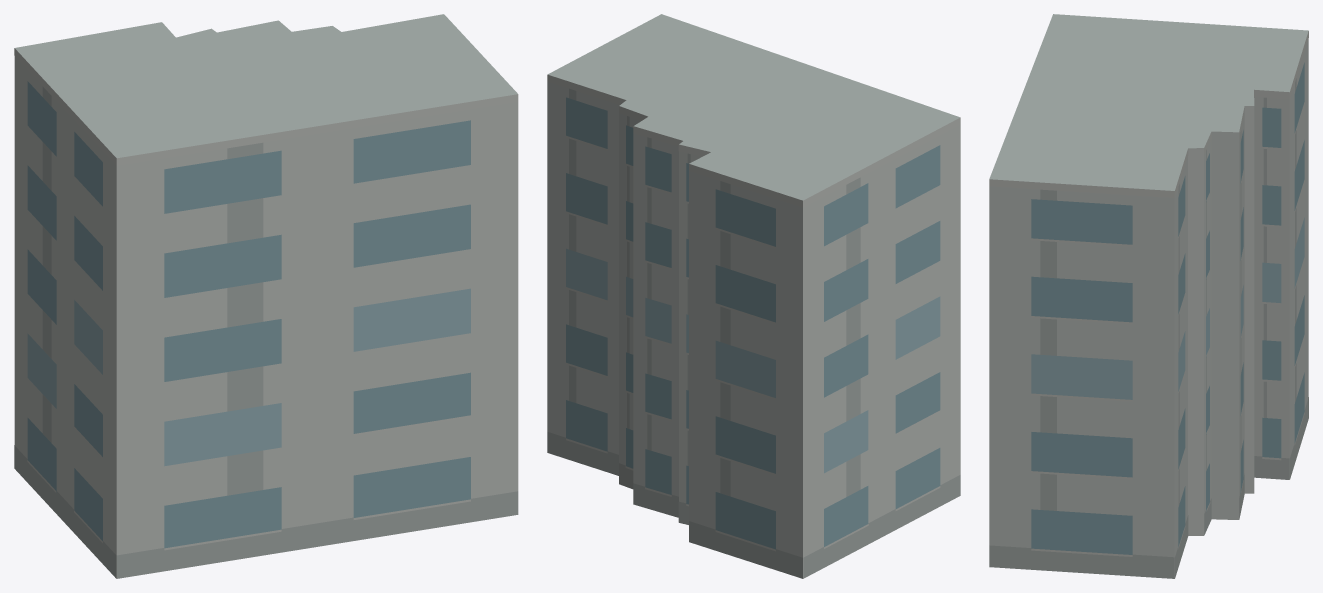
File: survey-upis-32722875.glb
3 views of the same model, side by side, from view 1: azimuth 30°, elevation 25°; view 2: azimuth 150°, elevation 25°; view 3: azimuth 270°, elevation 25° (orthographic). The views are drawn at different scales.
Parts seen in each view (by area): view 1: survey-upis-32722875.tmp; view 2: survey-upis-32722875.tmp; view 3: survey-upis-32722875.tmp.
Part boxes in pixels (left/top/right/bottom): survey-upis-32722875.tmp: left=14, top=14, right=518, bottom=578; survey-upis-32722875.tmp: left=547, top=14, right=960, bottom=578; survey-upis-32722875.tmp: left=989, top=14, right=1308, bottom=578.
Size of the model in its own units: 12.93 by 13.2 by 9.87.
